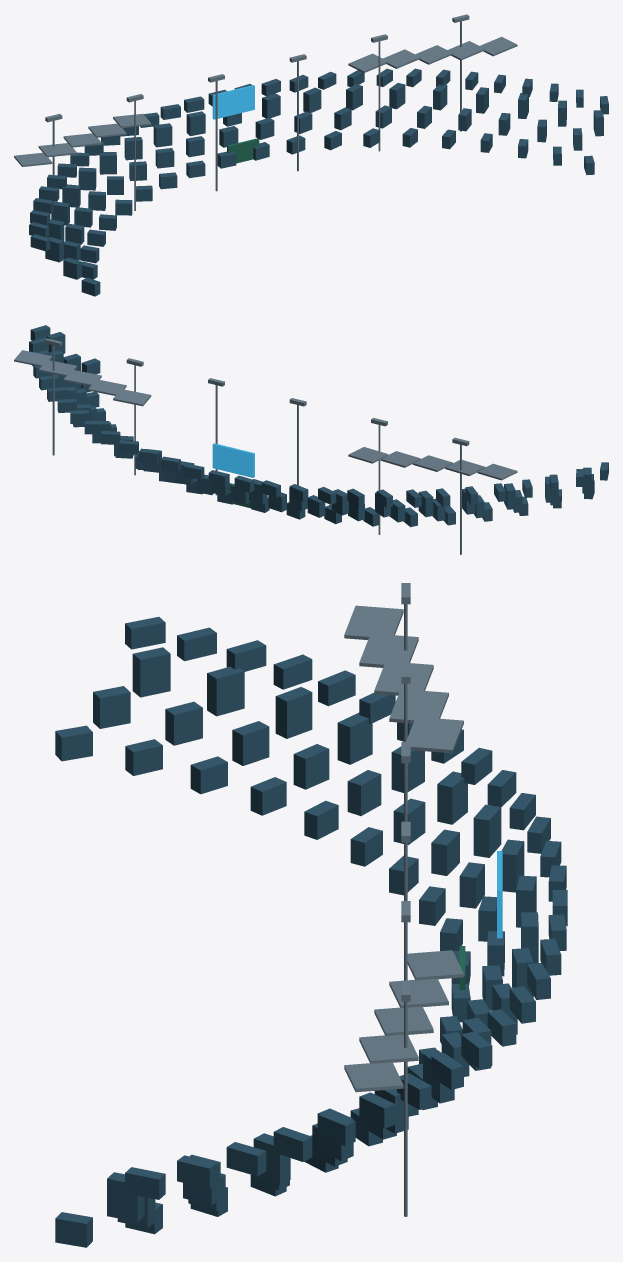
File: generic_stadium-high.glb
The picture shows the model from 3 angles, top to bottom: view 1: azimuth 30°, elevation 25°; view 2: azimuth 150°, elevation 25°; view 3: azimuth 270°, elevation 25°; orthographic projection. The views are drawn at different scales.
Parts seen in each view (by area): view 1: CenterScoreboard, BatterEye, Stand_23, Stand_26, Roof_1_0, Stand_32, Roof_1_2, Stand_35, Roof_1_4, Stand_14, Roof_1_1, Roof_1_3 (+8 smaller); view 2: CenterScoreboard, Roof_1_0, Roof_1_1, Roof_1_4, Roof_1_2, Roof_-1_0, Roof_1_3, Roof_-1_2, Roof_-1_4, Roof_-1_1, Roof_-1_3, Stand_20 (+3 smaller); view 3: Stand_2, Stand_8, Stand_5, Roof_-1_0, Stand_11, Roof_-1_4, Roof_-1_3, Roof_-1_1, Stand_1, Stand_4, Stand_7, Roof_1_4 (+39 smaller).
Part boxes in pixels (x1=…): CenterScoreboard: x1=212, y1=85, x2=254, y2=119; BatterEye: x1=227, y1=138, x2=259, y2=163; Stand_23: x1=153, y1=123, x2=172, y2=147; Stand_26: x1=186, y1=111, x2=205, y2=136; Roof_1_0: x1=348, y1=53, x2=388, y2=72; Stand_32: x1=262, y1=93, x2=280, y2=118; Roof_1_2: x1=415, y1=45, x2=452, y2=64; Stand_35: x1=303, y1=87, x2=321, y2=112; Roof_1_4: x1=480, y1=36, x2=517, y2=56; Stand_14: x1=78, y1=167, x2=96, y2=190; Roof_1_1: x1=383, y1=49, x2=420, y2=68; Roof_1_3: x1=447, y1=41, x2=485, y2=60; CenterScoreboard: x1=212, y1=443, x2=254, y2=477; Roof_1_0: x1=113, y1=389, x2=151, y2=406; Roof_1_1: x1=88, y1=379, x2=126, y2=395; Roof_1_4: x1=14, y1=350, x2=52, y2=366; Roof_1_2: x1=63, y1=369, x2=101, y2=386; Roof_-1_0: x1=348, y1=447, x2=388, y2=463; Roof_1_3: x1=38, y1=360, x2=76, y2=376; Roof_-1_2: x1=412, y1=455, x2=452, y2=471; Roof_-1_4: x1=477, y1=463, x2=517, y2=480; Roof_-1_1: x1=380, y1=451, x2=420, y2=467; Roof_-1_3: x1=445, y1=460, x2=485, y2=476; Stand_20: x1=331, y1=489, x2=348, y2=515; Stand_2: x1=132, y1=647, x2=170, y2=697; Stand_8: x1=275, y1=687, x2=312, y2=738; Stand_5: x1=207, y1=666, x2=244, y2=716; Roof_-1_0: x1=406, y1=717, x2=463, y2=753; Stand_11: x1=337, y1=712, x2=372, y2=764; Roof_-1_4: x1=344, y1=605, x2=403, y2=639; Roof_-1_3: x1=359, y1=633, x2=418, y2=667; Roof_-1_1: x1=389, y1=689, x2=448, y2=723; Stand_1: x1=93, y1=686, x2=130, y2=728; Stand_4: x1=165, y1=701, x2=202, y2=745; Stand_7: x1=232, y1=721, x2=269, y2=765; Roof_1_4: x1=344, y1=1062, x2=403, y2=1092.
Bounding box in the file's own units: 708 × 134 × 272.
